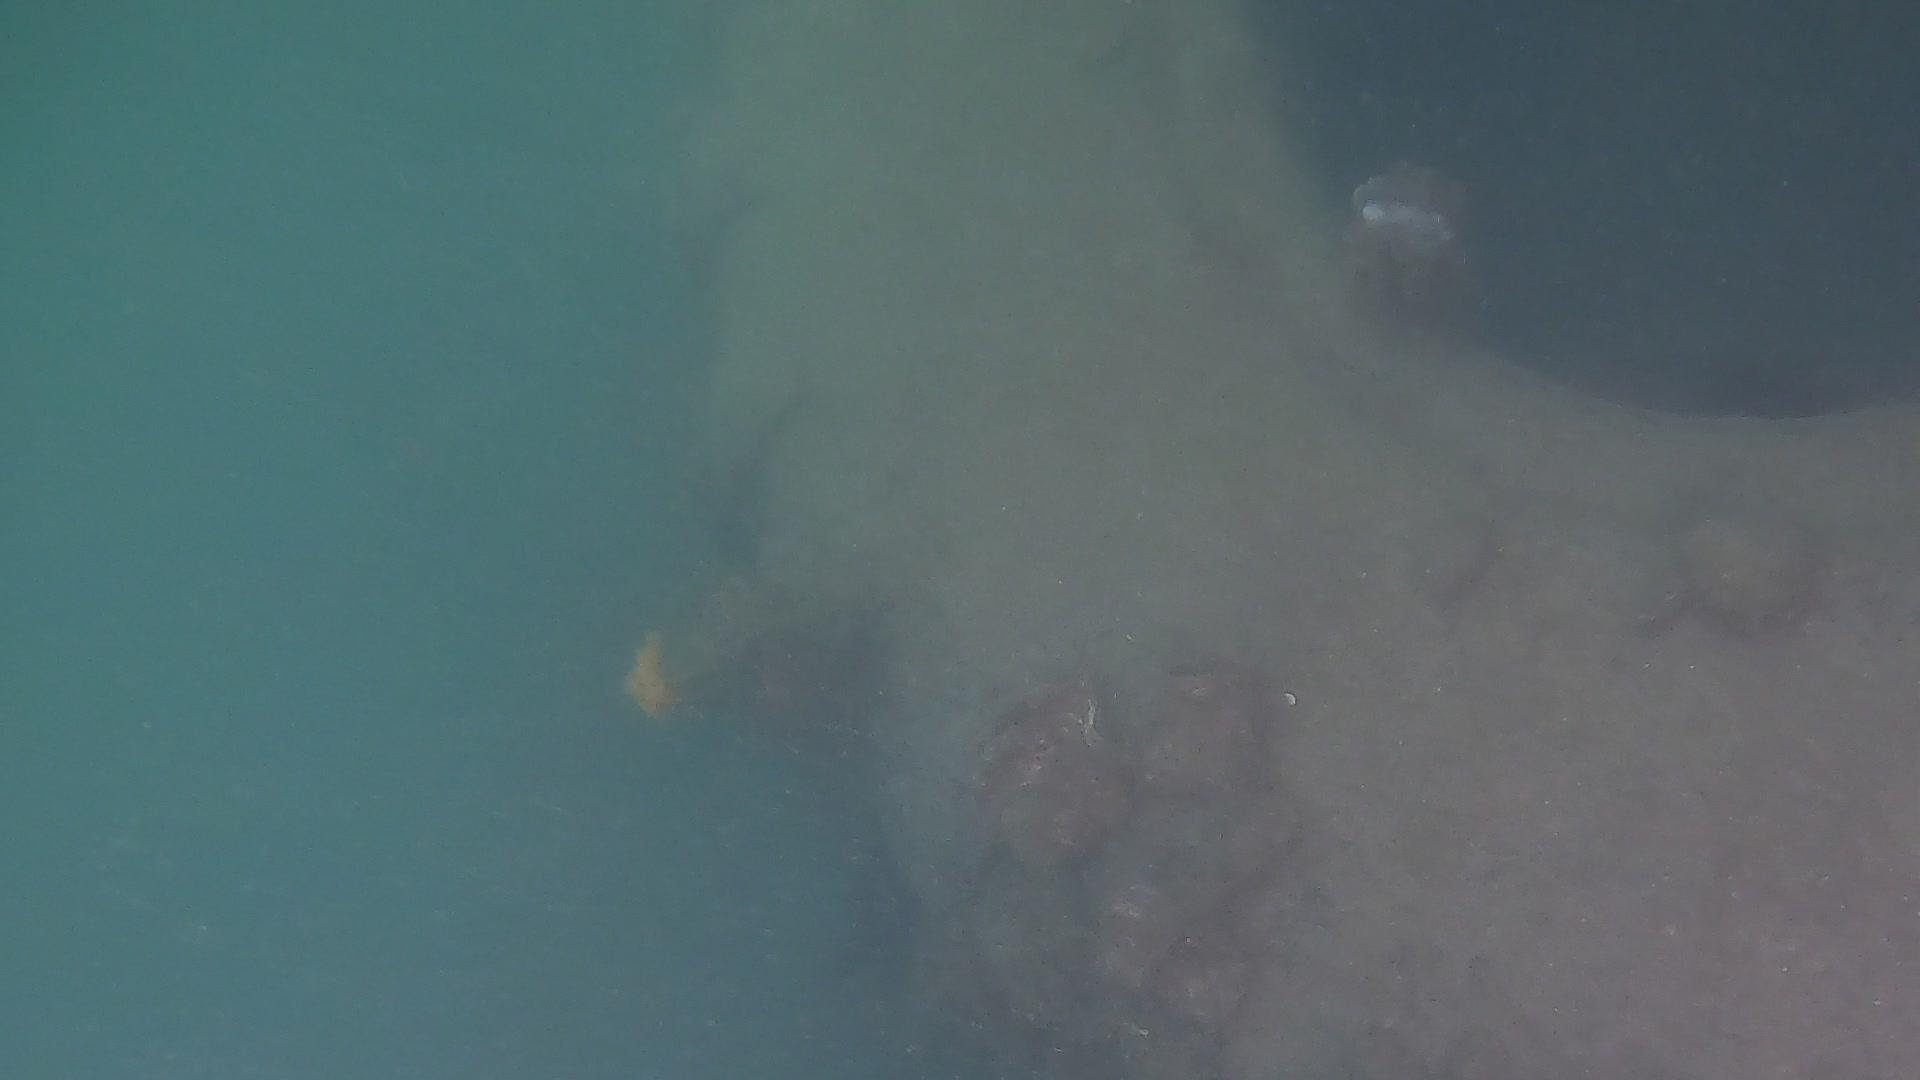tire: (601, 0, 1920, 1080)
